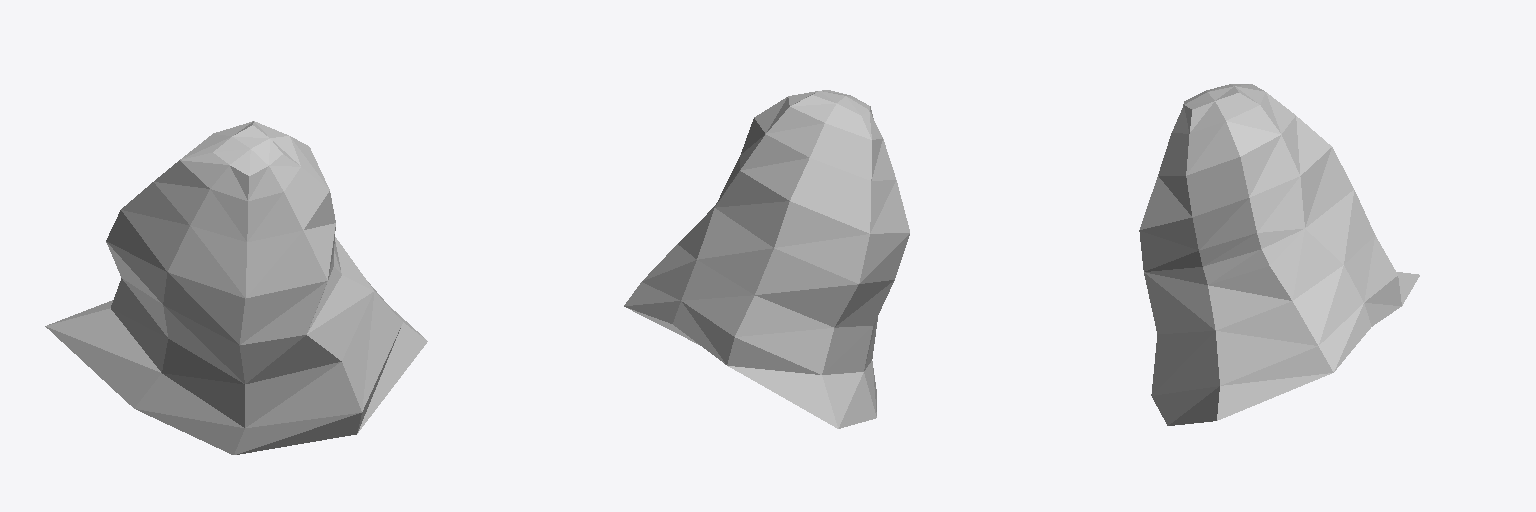
File: env_level1_Canyon_Rock30.obj
3 renders of one model, left to right at view 1: azimuth 30°, elevation 25°; view 2: azimuth 150°, elevation 25°; view 3: azimuth 270°, elevation 25°, orthographic.
Parts seen in each view (by area): view 1: pCube2; view 2: pCube2; view 3: pCube2.
Boxes of the visible parts, x1,y1,x2,y2 form: pCube2: [45, 121, 427, 454]; pCube2: [624, 90, 909, 428]; pCube2: [1139, 84, 1419, 425].
Size of the model in its own units: 1139 by 1175 by 987.